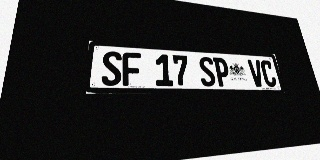1: (154, 54, 173, 86)
7: (171, 55, 190, 86)
C: (260, 60, 277, 87)
F: (122, 52, 142, 86)
P: (213, 57, 231, 87)
S: (101, 51, 122, 86), (198, 56, 217, 87)
V: (247, 59, 265, 87)
